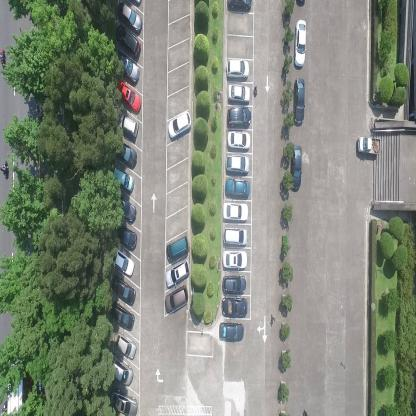car: (115, 22, 140, 58), (116, 50, 140, 86), (110, 386, 138, 416), (167, 109, 192, 142), (117, 80, 140, 114), (119, 0, 142, 34), (111, 273, 135, 305), (164, 259, 190, 288), (111, 300, 135, 330), (293, 18, 307, 69), (165, 284, 189, 313), (167, 234, 189, 264), (112, 357, 134, 387), (112, 248, 134, 278), (114, 332, 136, 361), (290, 142, 302, 193), (292, 76, 304, 126), (116, 222, 138, 249), (117, 140, 137, 169), (356, 134, 380, 158), (112, 166, 134, 192), (223, 201, 248, 223), (222, 274, 247, 296), (222, 298, 249, 318), (227, 105, 251, 127), (118, 196, 136, 225), (224, 177, 250, 197), (119, 112, 138, 139), (225, 57, 249, 78), (227, 83, 251, 104), (226, 152, 250, 173), (223, 250, 248, 270), (220, 322, 245, 342), (223, 228, 249, 246), (226, 130, 251, 148), (226, 0, 252, 12)
